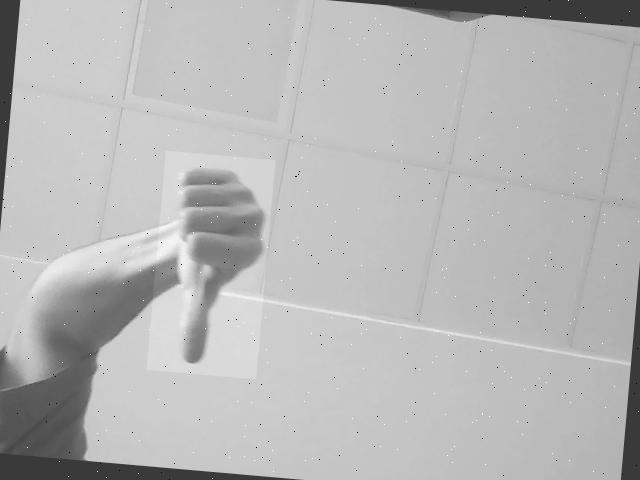bad: (146, 150, 274, 379)
